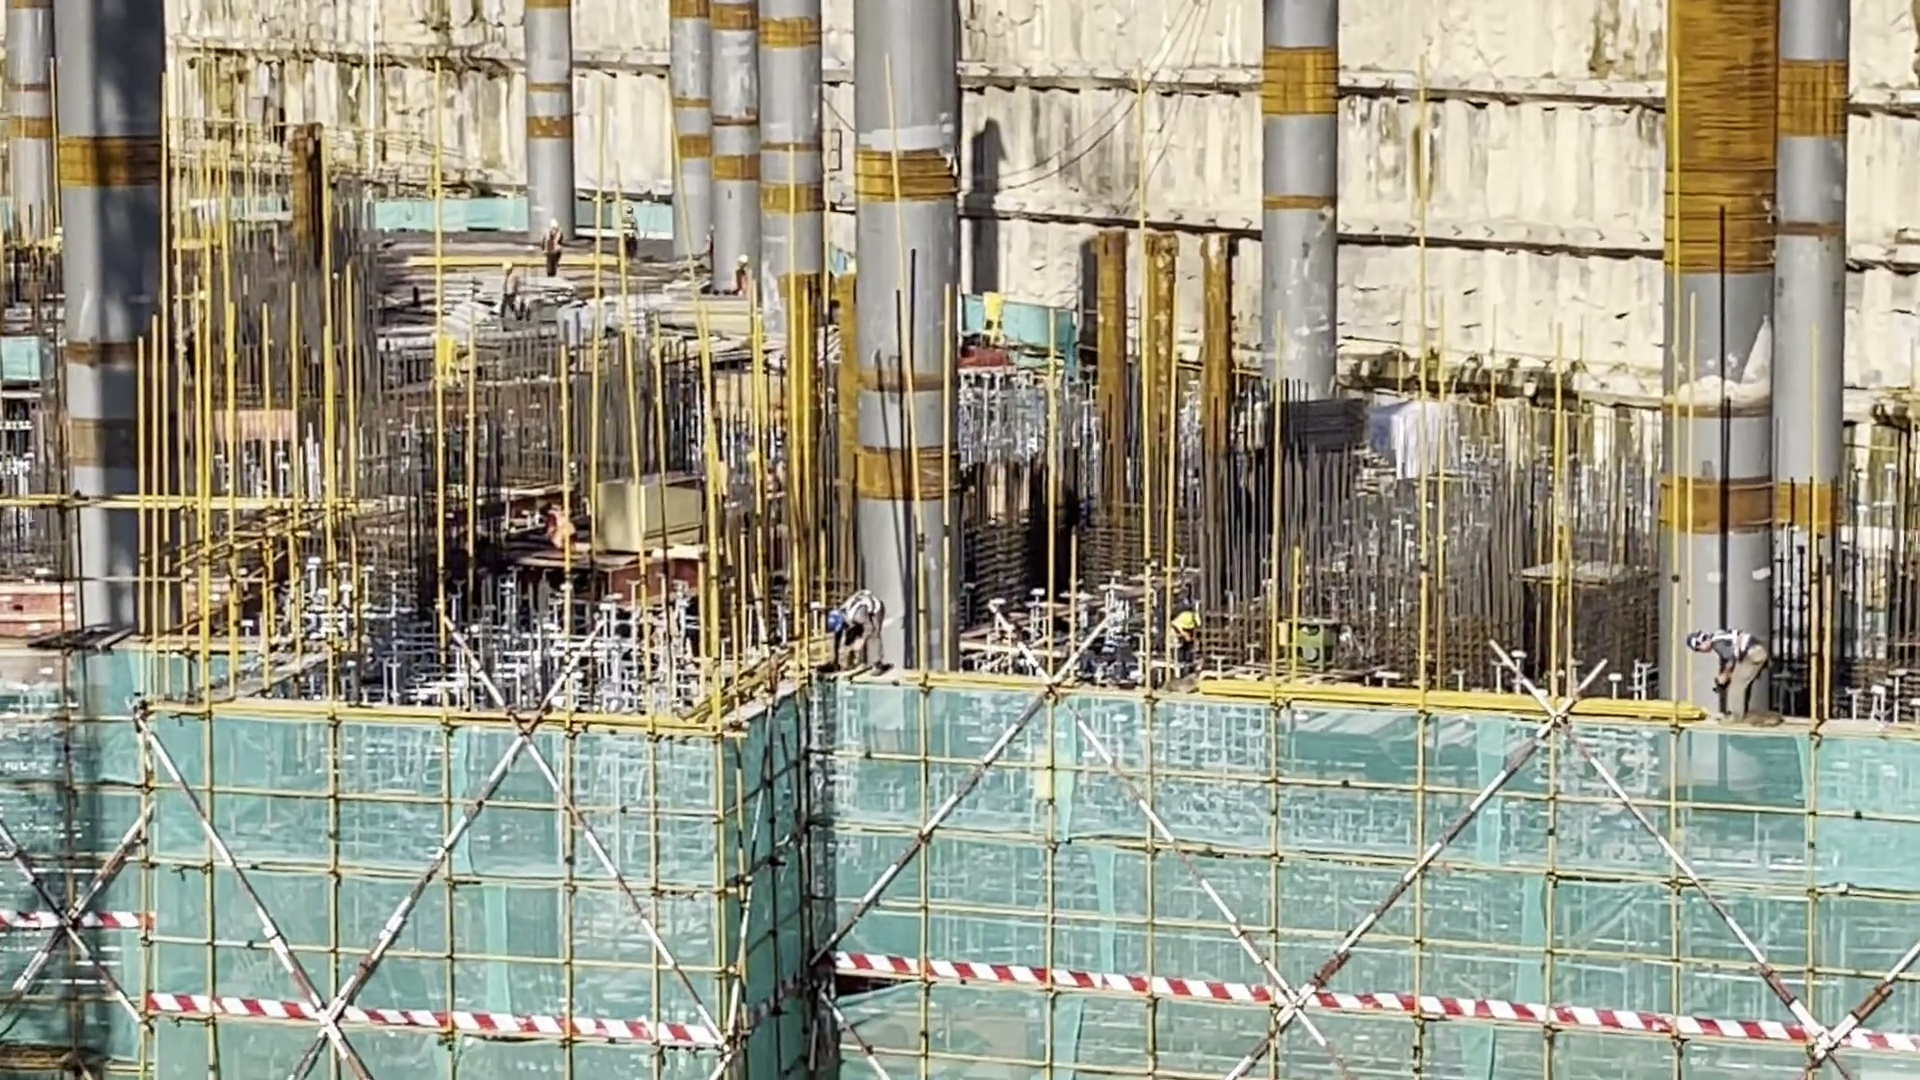board: (584, 496, 698, 547)
ebox: (978, 279, 1018, 326), (436, 329, 463, 372)
helmet: (824, 601, 851, 636), (1179, 609, 1201, 631), (1696, 622, 1708, 656), (501, 258, 518, 273), (533, 513, 546, 529), (548, 219, 560, 231), (739, 257, 750, 268), (626, 204, 638, 212)
person: (1693, 623, 1771, 728), (813, 583, 886, 671), (1164, 588, 1221, 656), (541, 505, 583, 553), (619, 201, 648, 264), (493, 260, 526, 308), (729, 242, 756, 296), (542, 219, 564, 276)
vest: (843, 589, 878, 638), (1703, 636, 1756, 661), (1169, 624, 1198, 654), (552, 508, 578, 538), (733, 269, 755, 296), (619, 219, 639, 241), (544, 231, 560, 260), (502, 267, 518, 295)
